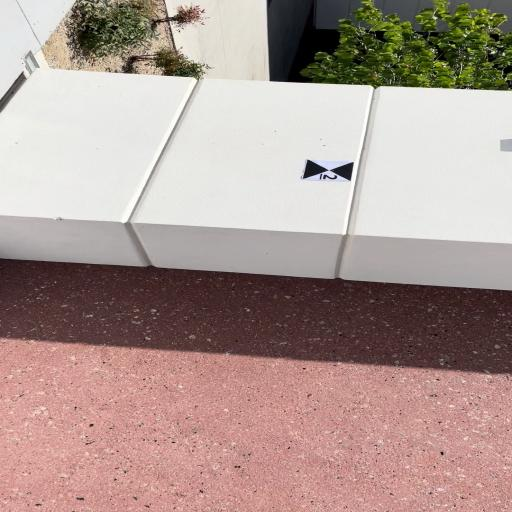target2: (301, 160, 354, 182)
